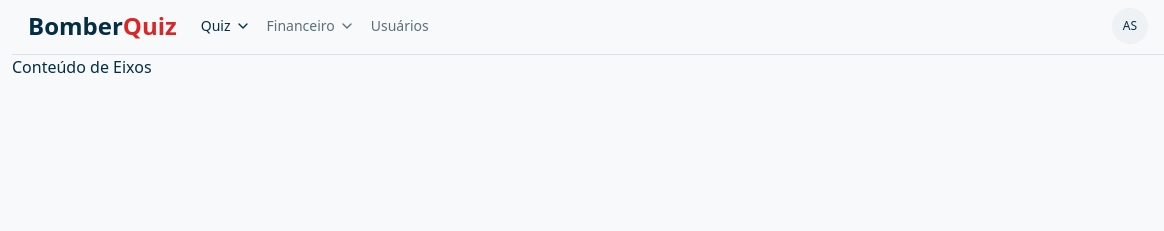
Scenario: PanelLayout › agrupa Eixos, Matérias, Perguntas, Revisão e Contestações no menu Quiz
Check: the text "Conteúdo de Eixos" is shown, box [12,56,152,78]
Click the button "Quiz". click: (226, 26)
box: [201,16,250,36]
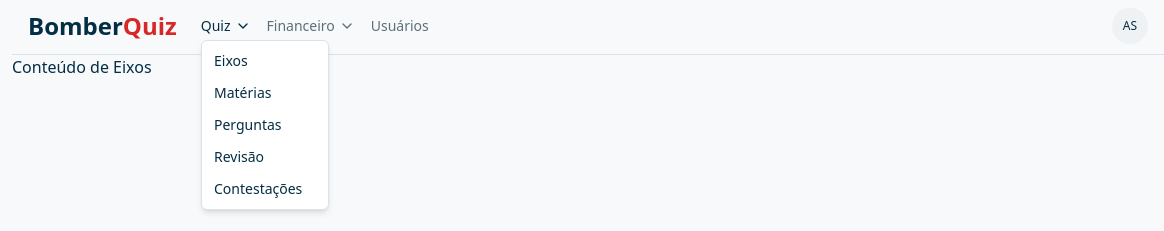
Check: the menu items read "Eixos", "Matérias", "Perguntas", "Revisão", "Contestações", in this order, box [214,51,248,70]; [214,83,272,102]; [214,115,282,134]; [214,147,264,166]; [214,179,302,198]
